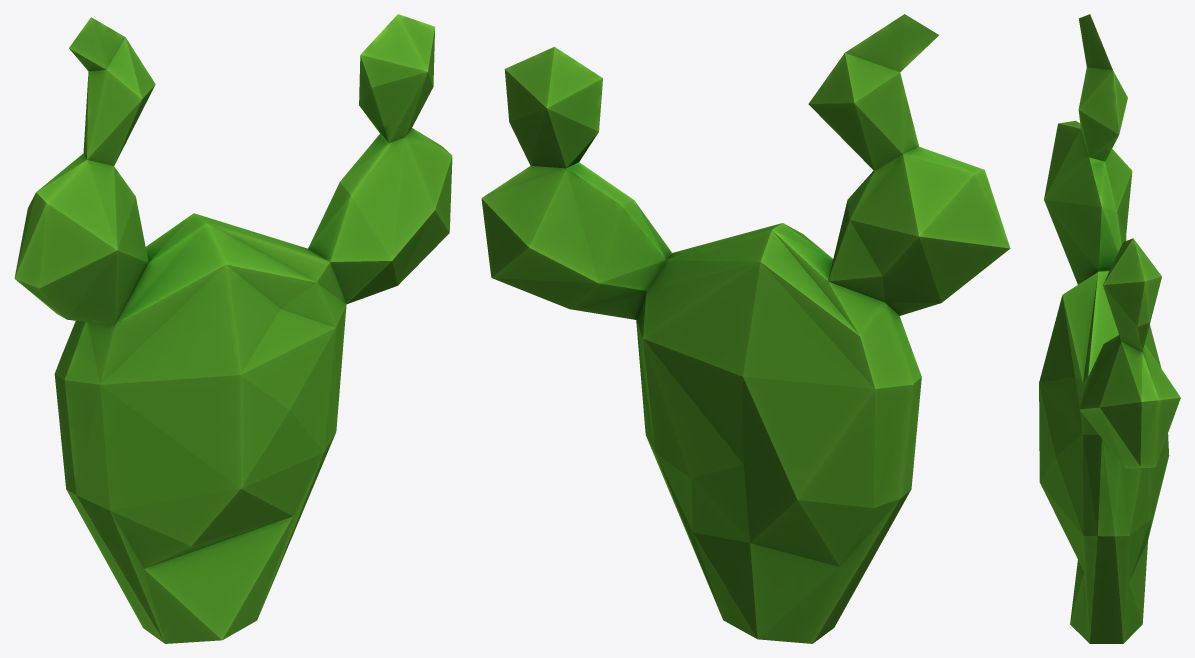
File: Cactus_11.fbx
The picture shows the model from 3 angles, left to right: view 1: azimuth 30°, elevation 25°; view 2: azimuth 150°, elevation 25°; view 3: azimuth 270°, elevation 25°; orthographic projection. The views are drawn at different scales.
Parts seen in each view (by area): view 1: Cactus_11; view 2: Cactus_11; view 3: Cactus_11.
Boxes of the visible parts, <box> form: Cactus_11: <box>14,14,452,643</box>; Cactus_11: <box>481,14,1010,643</box>; Cactus_11: <box>1039,14,1180,643</box>.
Bounding box in the file's own units: 40.15 × 51.14 × 11.75.
